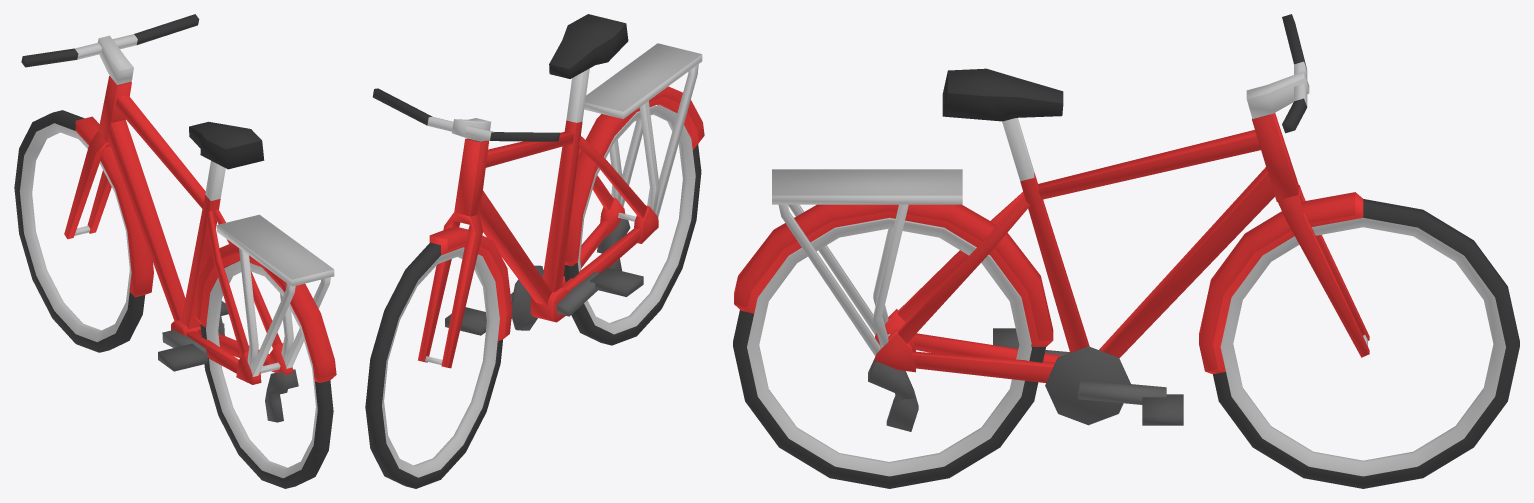
Rendered from bicycle3.glb.
3 renders of one model, left to right at view 1: azimuth 30°, elevation 25°; view 2: azimuth 150°, elevation 25°; view 3: azimuth 270°, elevation 25°, orthographic. The views are drawn at different scales.
Visible parts, largest first — view 1: Object_2; view 2: Object_2; view 3: Object_2.
Boxes of the visible parts, box(x1,y1,x2,y2) form: Object_2: box(14, 14, 336, 488); Object_2: box(365, 14, 704, 488); Object_2: box(733, 14, 1519, 488).
Bounding box in the file's own units: 0.554 × 1.01 × 1.72.
Materials: 1 (1 with a texture image).
